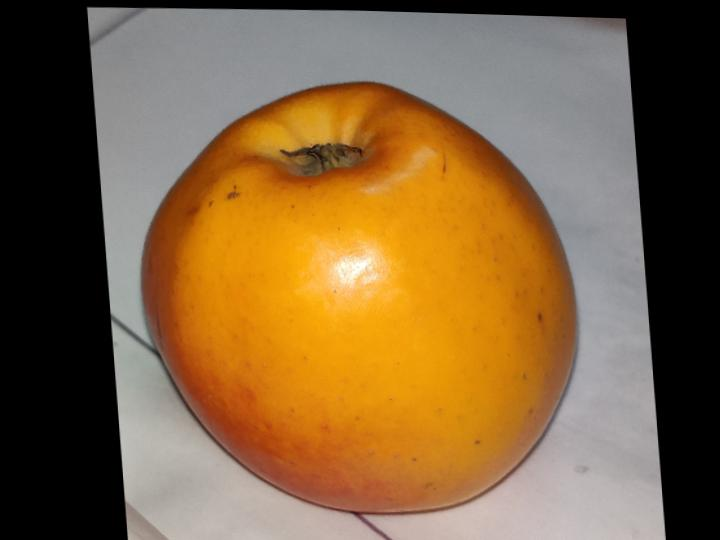apple: (141, 83, 574, 513)
